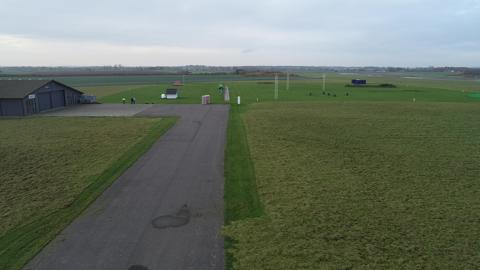RockwoolPallet: (205, 94, 211, 106)
